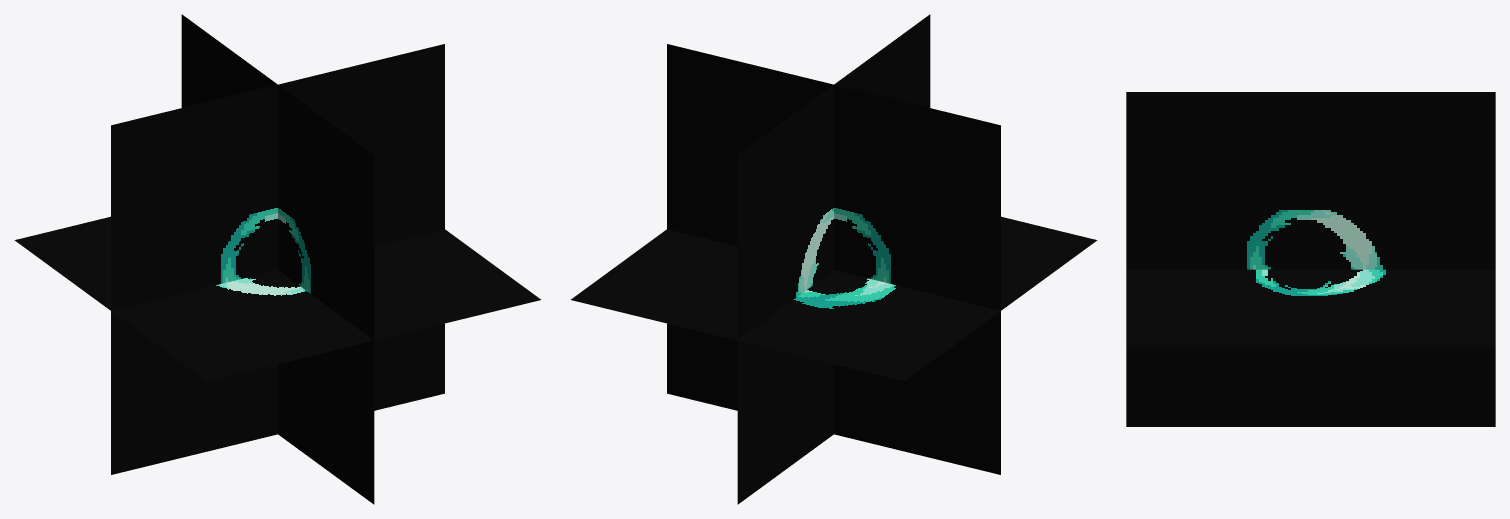
File: vfx_gale_vault_1.gltf
3 views of the same model, side by side, from view 1: azimuth 30°, elevation 25°; view 2: azimuth 150°, elevation 25°; view 3: azimuth 270°, elevation 25° (orthographic). The views are drawn at different scales.
Visible parts, largest first — view 1: cube (×3); view 2: cube (×3); view 3: cube (×2).
Boxes of the visible parts, x1=… form: cube (×3): x1=14, y1=14, x2=540, y2=504; cube (×3): x1=571, y1=14, x2=1097, y2=504; cube (×2): x1=1126, y1=92, x2=1495, y2=426.
Size of the model in its own units: 2.06 by 2.06 by 2.06.
Materials: 1 (1 with a texture image).
